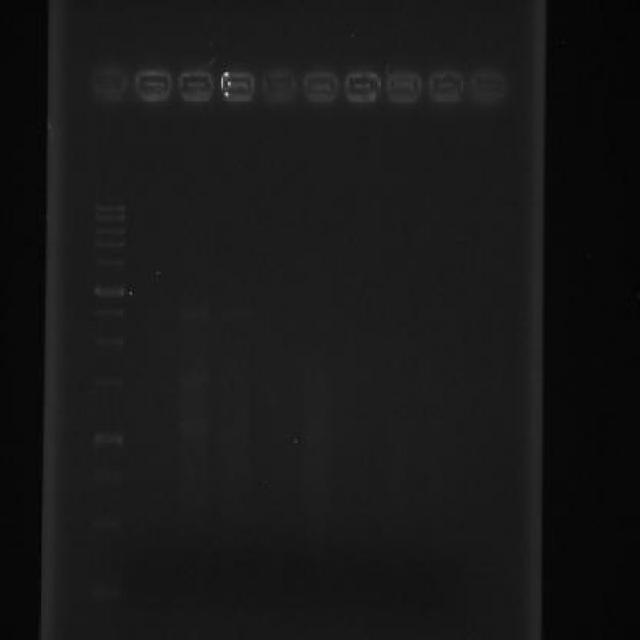B: (178, 304, 212, 322), (218, 306, 254, 322)
L: (74, 51, 514, 120)
M: (80, 188, 134, 614)
P: (86, 580, 123, 606), (88, 510, 124, 536), (90, 428, 124, 450), (91, 372, 124, 394), (90, 466, 122, 486), (90, 254, 126, 271), (92, 334, 125, 352), (92, 306, 125, 322), (92, 285, 125, 301), (93, 224, 127, 238), (92, 239, 126, 252), (94, 200, 126, 213), (92, 212, 126, 223)
Pc: (84, 60, 128, 108), (384, 63, 424, 114), (468, 63, 508, 109), (300, 66, 342, 108), (343, 64, 383, 108), (426, 64, 466, 108), (132, 64, 174, 105), (176, 63, 215, 106), (219, 66, 258, 108), (260, 63, 298, 106)
